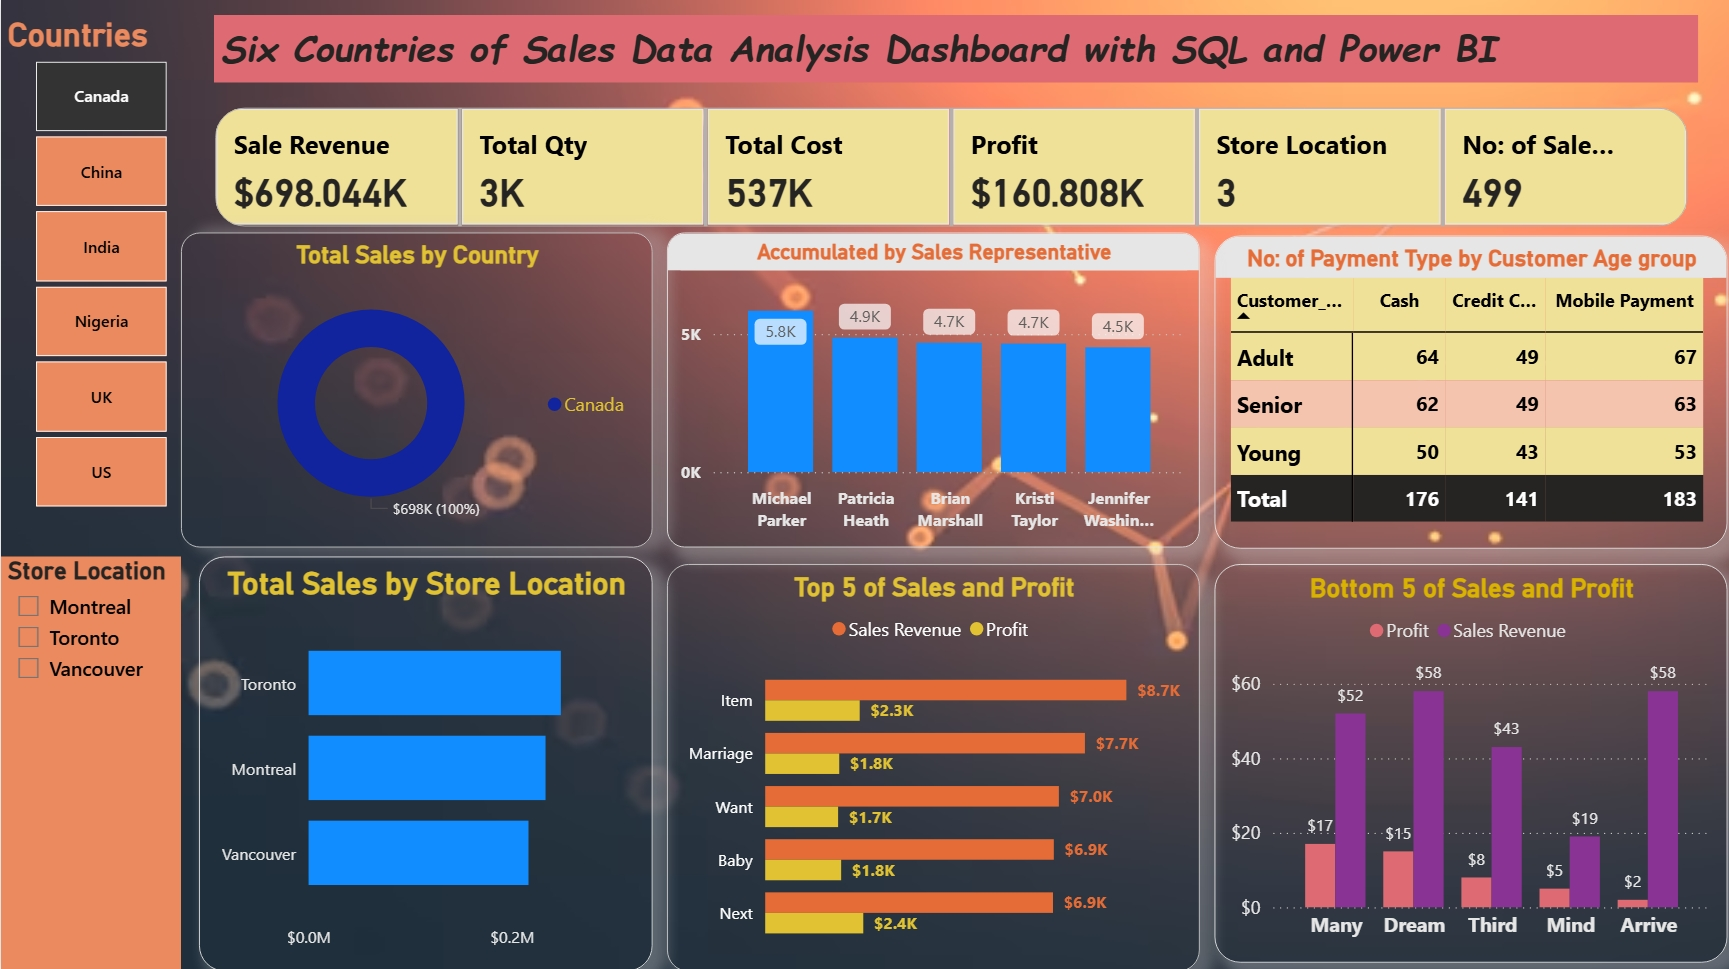

Layout of this report page (visuals, bound fields, positions):
{"tool":"powerbi","page":{"name":"Page 1","canvas":[1280,720],"ordinal":0},"visuals":[{"type":"slicer","title":"Countries","fields":{"Values":["6countriessaledatabase allsalesdata.Country"]},"box":[0,10.6,146.9,371],"z":0},{"type":"cardVisual","fields":{"Data":["Measurement.Total Sales","Measurement.TotalQty","Sum(6countriessaledatabase allsalesdata.TotalCost)","Sum(6countriessaledatabase allsalesdata.Profit)","Count(6countriessaledatabase allsalesdata.Store_Location)","Count(6countriessaledatabase allsalesdata.Sales_Rep)"]},"box":[133.3,74.2,1146.3,98.4],"z":1000},{"type":"slicer","title":"Store Location","fields":{"Values":["6countriessaledatabase allsalesdata.Store_Location"]},"box":[0,411.9,133.3,307.4],"z":2000},{"type":"donutChart","fields":{"Category":["6countriessaledatabase allsalesdata.Country"],"Y":["Measurement.Total Sales"]},"box":[132.9,172.7,349.3,233.5],"z":3000},{"type":"pivotTable","title":"No: of Payment Type by Customer Age group","fields":{"Rows":["6countriessaledatabase allsalesdata.Customer_Age_Group"],"Columns":["6countriessaledatabase allsalesdata.Payment_Method"],"Values":["CountNonNull(6countriessaledatabase allsalesdata.Payment_Method)"]},"box":[899.4,174.1,380.1,231.7],"z":4000},{"type":"clusteredBarChart","title":"Top 5 of Sales and Profit","fields":{"Category":["6countriessaledatabase allsalesdata.Product_Name"],"Y":["Measurement.Total Sales","Sum(6countriessaledatabase allsalesdata.Profit)"]},"box":[493.5,417.6,394.8,301.8],"z":5000},{"type":"clusteredColumnChart","title":"Bottom 5 of Sales and Profit","fields":{"Category":["6countriessaledatabase allsalesdata.Product_Name"],"Y":["Sum(6countriessaledatabase allsalesdata.Profit)","Measurement.Total Sales"]},"box":[899.4,417.9,380.1,295.3],"z":6000},{"type":"barChart","title":"Total Sales by Store Location","fields":{"Category":["6countriessaledatabase allsalesdata.Store_Location"],"Y":["Measurement.Total Sales"]},"box":[146.2,411.9,336,307.5],"z":7000},{"type":"lineStackedColumnComboChart","title":"Accumulated by Sales Representative","fields":{"Category":["6countriessaledatabase allsalesdata.Sales_Rep"],"Y":["Measurement.Total YTD"]},"box":[493.5,172.7,394.8,233.5],"z":8000},{"type":"textbox","box":[157.5,10.6,1099.3,50],"z":9000}]}

Visuals, with their boxes in screenshot pixels (x1, y1, x2, y2), scaled from the page's 1280x720 canvas onto the 1729x969 screenshot:
"Countries" slicer: 0, 14, 198, 514
cardVisual - Measurement.Total Sales x Measurement.TotalQty: 180, 100, 1728, 232
"Store Location" slicer: 0, 554, 180, 968
donutChart - 6countriessaledatabase allsalesdata.Country x Measurement.Total Sales: 180, 232, 651, 547
"No: of Payment Type by Customer Age group" pivotTable: 1215, 234, 1728, 546
"Top 5 of Sales and Profit" clusteredBarChart: 667, 562, 1200, 968
"Bottom 5 of Sales and Profit" clusteredColumnChart: 1215, 562, 1728, 960
"Total Sales by Store Location" barChart: 197, 554, 651, 968
"Accumulated by Sales Representative" lineStackedColumnComboChart: 667, 232, 1200, 547
textbox: 213, 14, 1698, 82
